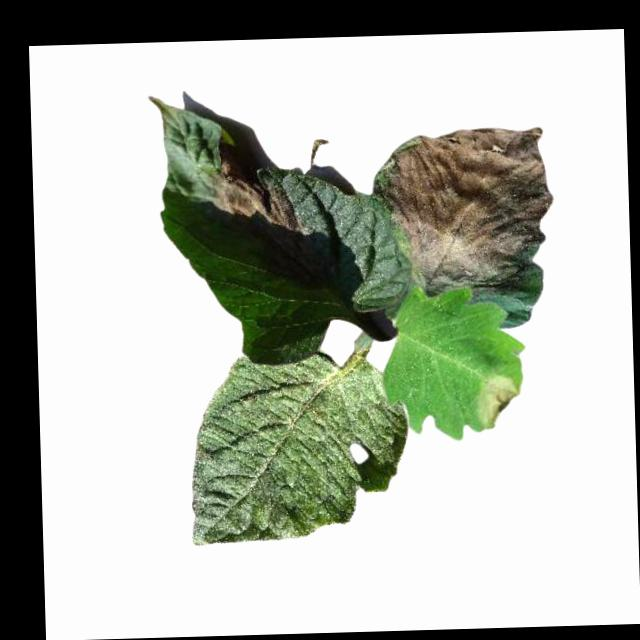Late_blight: (381, 123, 556, 296), (209, 134, 301, 234), (474, 373, 521, 431)
healthy: (186, 360, 410, 544)
